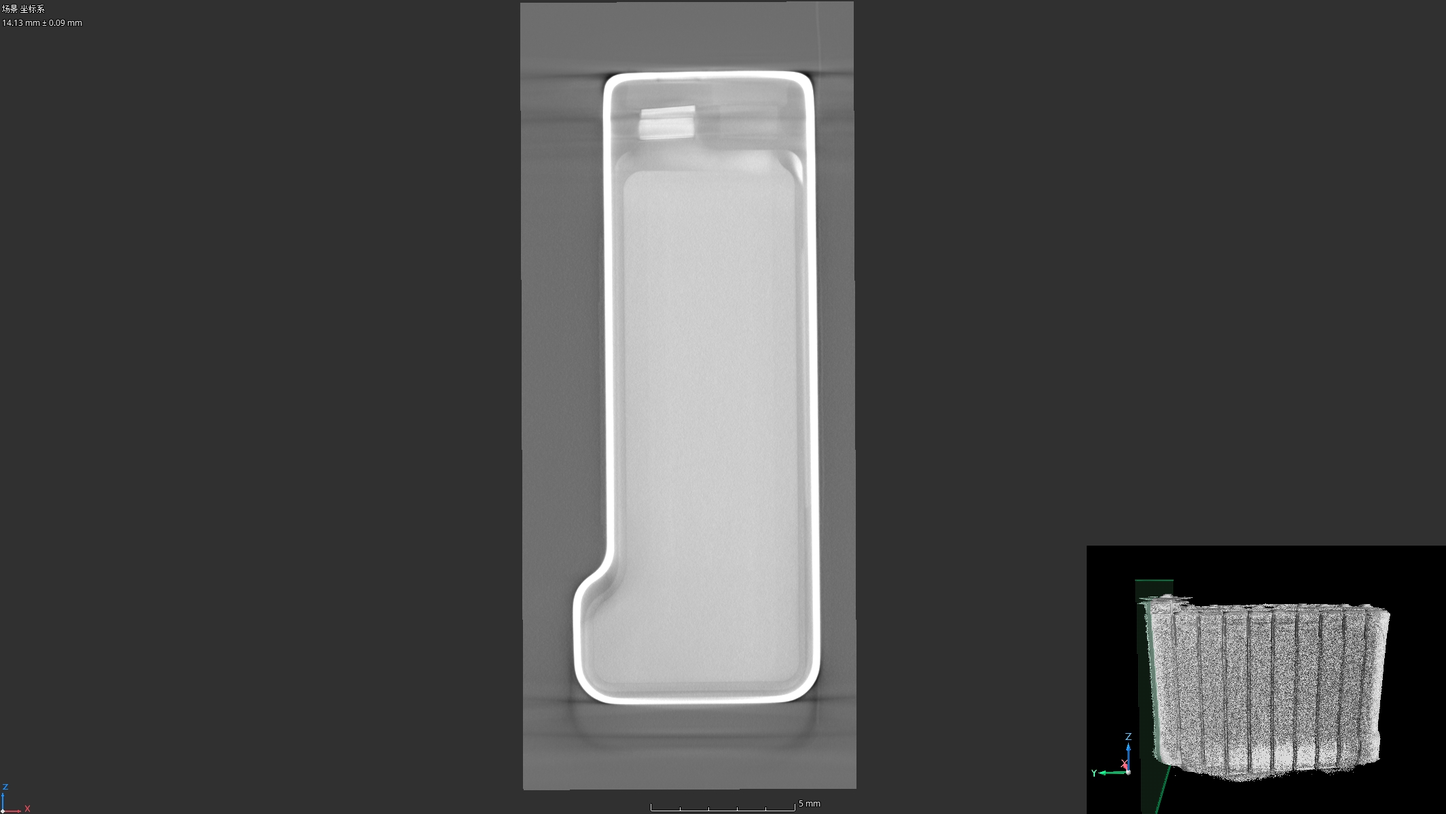damage: (783, 147, 808, 187)
